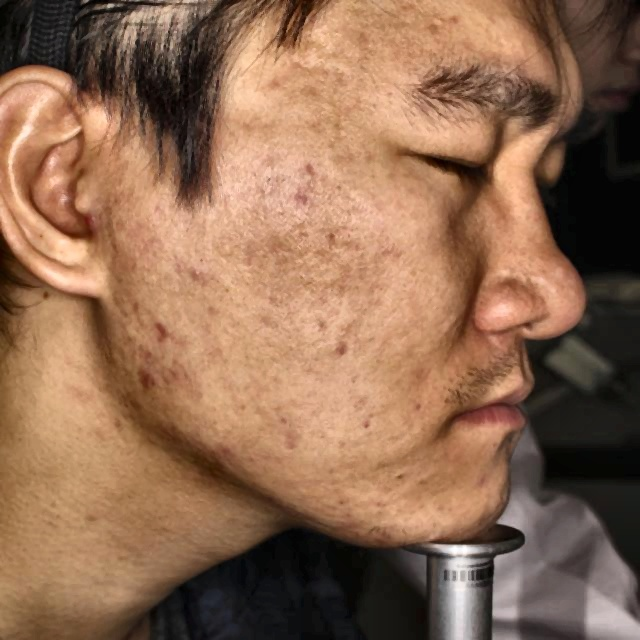comedone: (147, 319, 183, 346), (138, 367, 169, 396)
